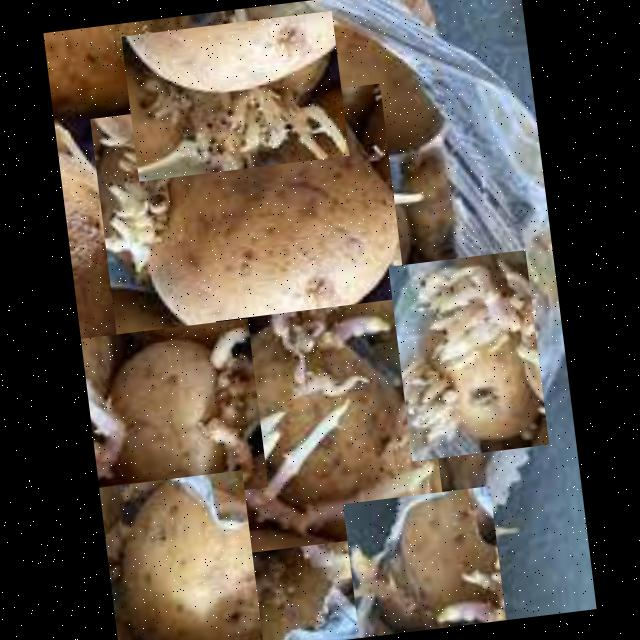Sprouted potato: (90, 82, 409, 358), (215, 295, 446, 552), (121, 9, 349, 180), (80, 317, 268, 506), (388, 248, 549, 460), (98, 469, 263, 640), (342, 484, 506, 638)
